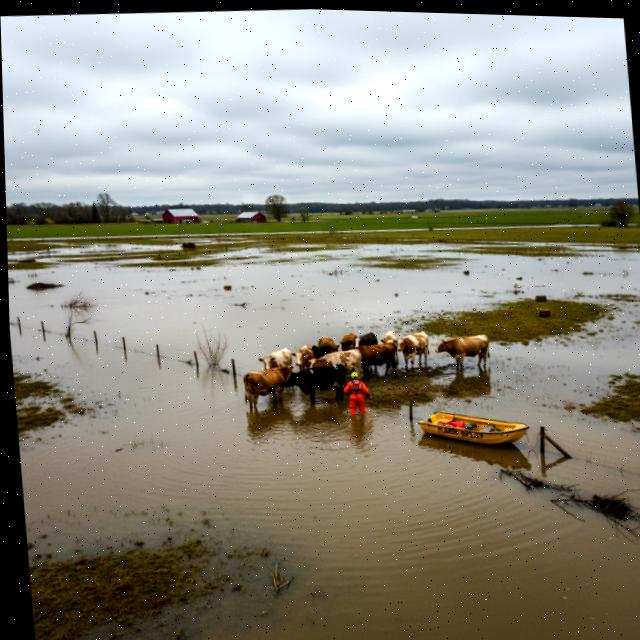cow: (236, 360, 305, 417), (283, 361, 354, 409), (431, 327, 496, 378), (346, 336, 404, 383), (306, 347, 369, 383), (391, 329, 436, 374), (256, 344, 295, 374), (282, 342, 319, 370), (312, 334, 339, 357), (353, 328, 379, 351), (382, 331, 402, 358), (308, 340, 334, 360), (340, 332, 356, 355)
rescuer: (341, 369, 379, 422)
